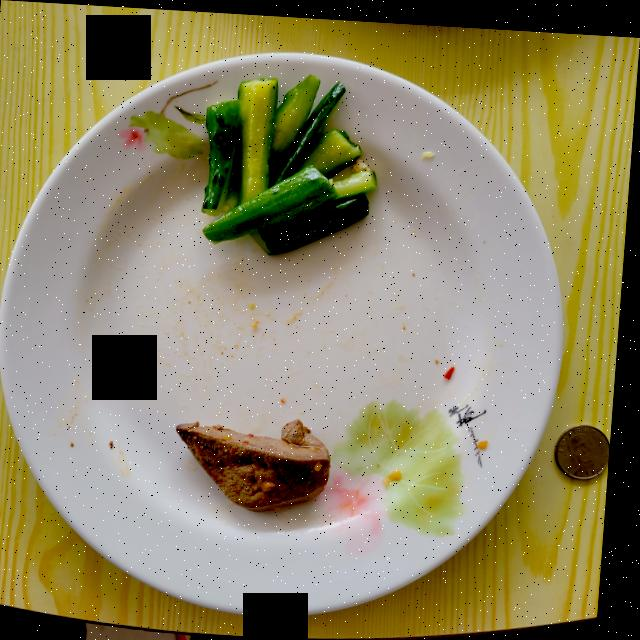coin: (560, 417, 616, 471)
cucumber: (206, 71, 378, 251)
pig liver: (182, 416, 336, 509)
